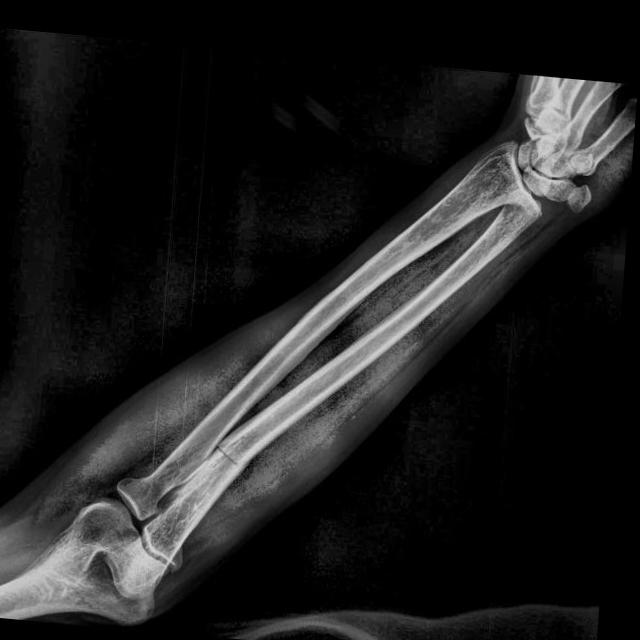fracture: (220, 438, 257, 464)
